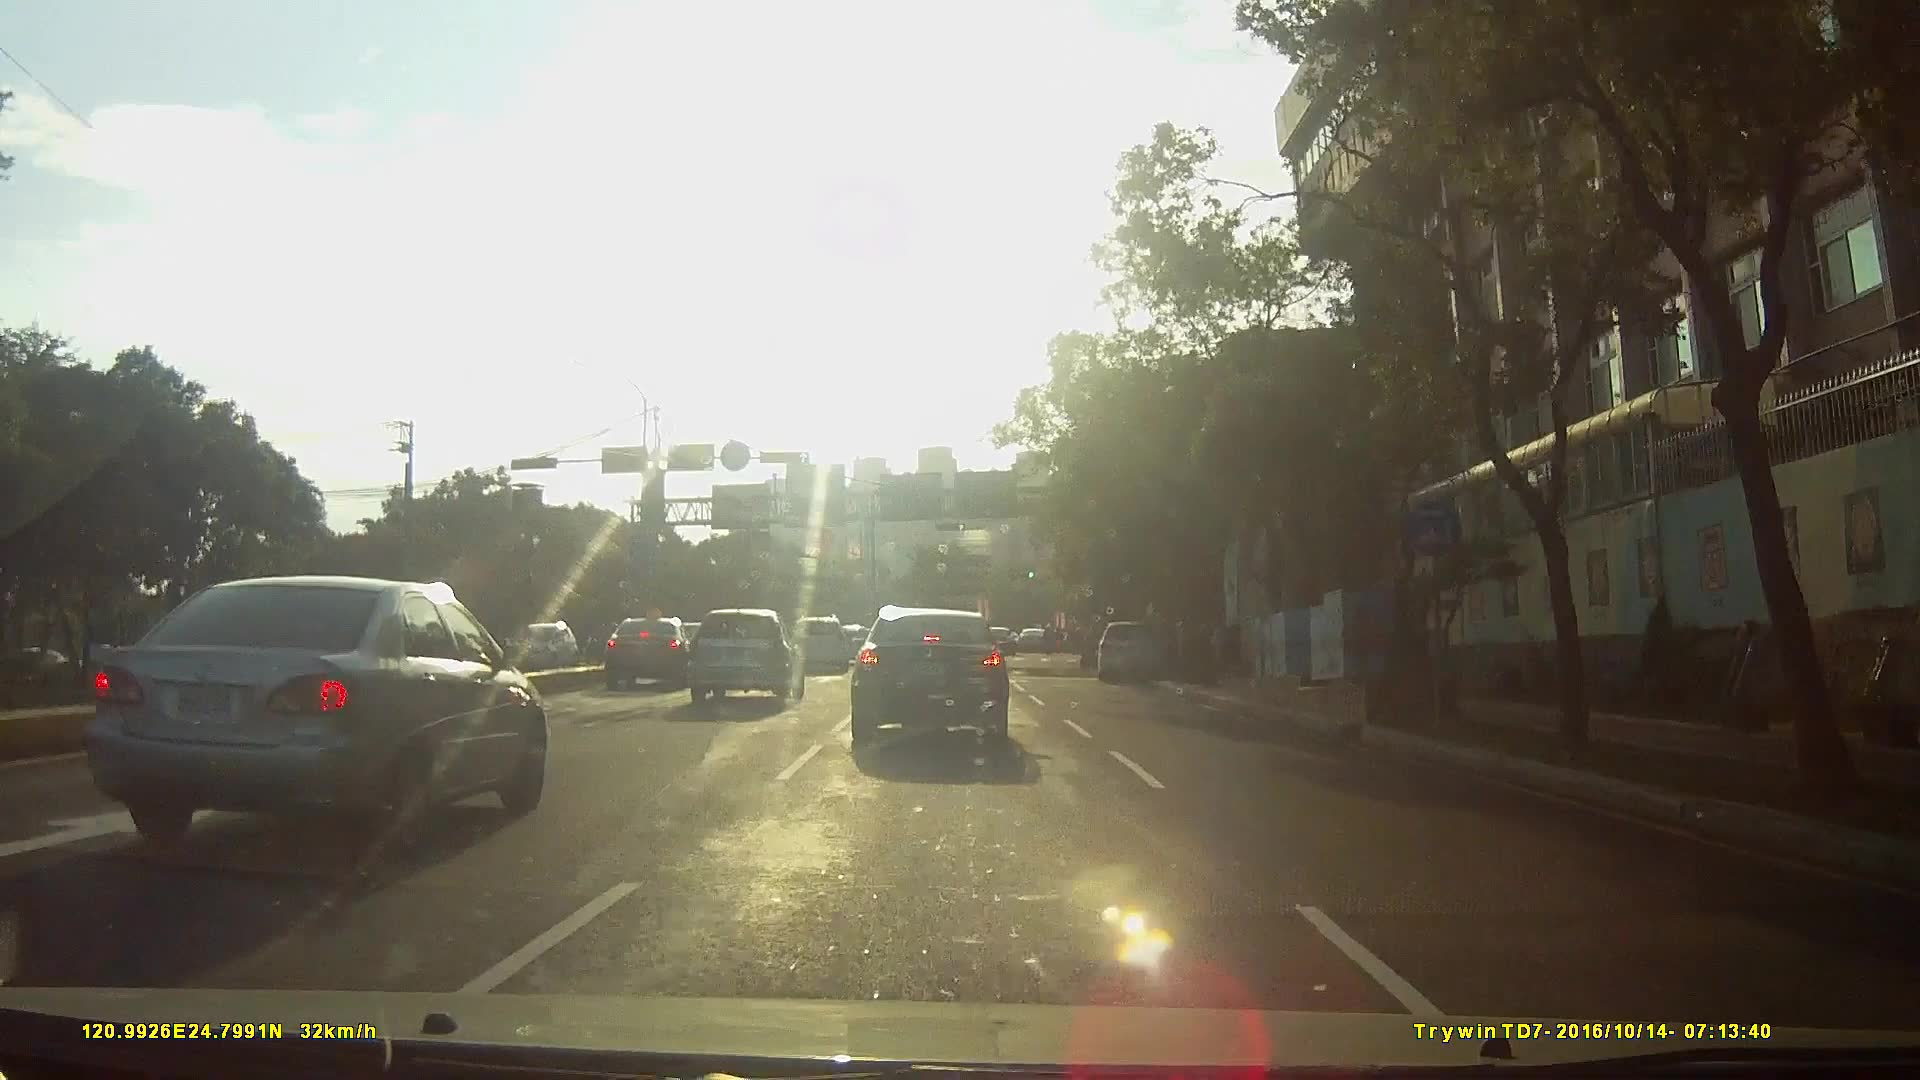vehicle: (75, 559, 556, 866), (843, 605, 1026, 766), (679, 605, 806, 704), (585, 613, 688, 691), (495, 615, 579, 675), (1098, 618, 1172, 684), (785, 612, 848, 673), (1017, 625, 1059, 653)
